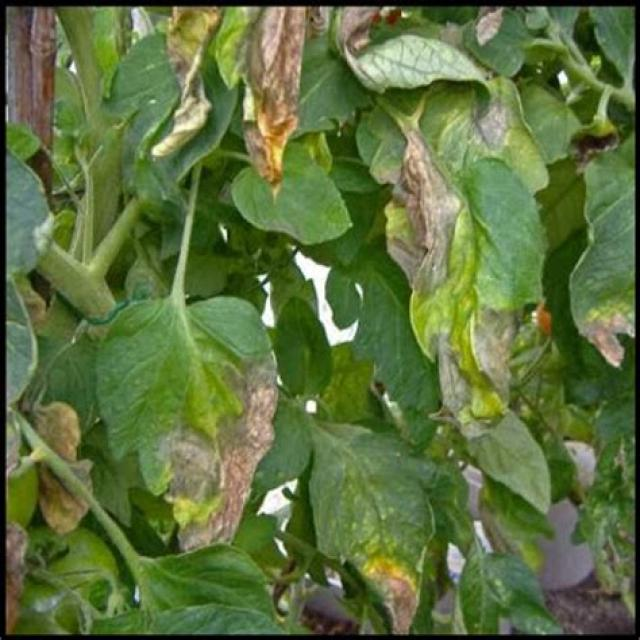blight: (183, 358, 278, 474), (394, 138, 461, 286), (370, 542, 420, 639)
